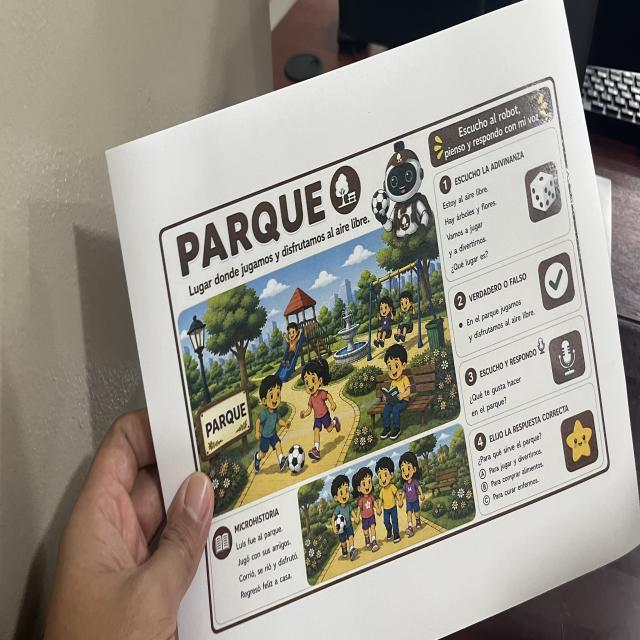parque: (156, 69, 613, 640)
